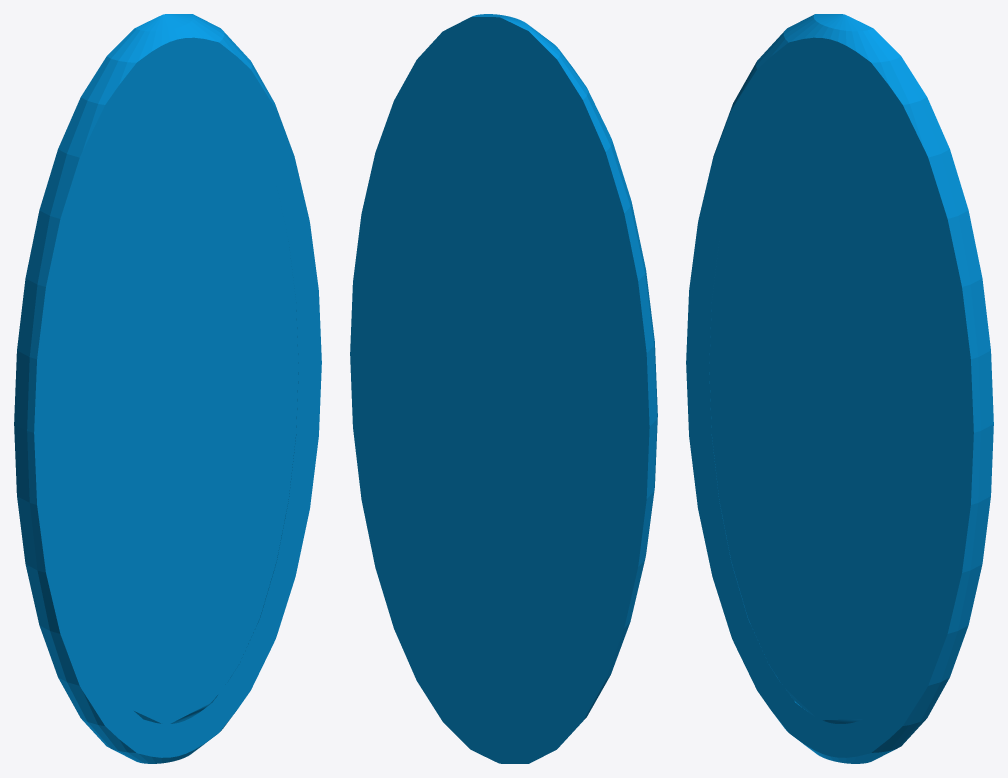
Rendered from Portal.fbx.
The picture shows the model from 3 angles, left to right: view 1: azimuth 30°, elevation 25°; view 2: azimuth 150°, elevation 25°; view 3: azimuth 330°, elevation 25°; orthographic projection.
Parts seen in each view (by area): view 1: Sphere.001; view 2: Sphere.001; view 3: Sphere.001.
Part boxes in pixels (bbox=[...]): Sphere.001: bbox=[14, 14, 321, 763]; Sphere.001: bbox=[350, 14, 657, 763]; Sphere.001: bbox=[686, 14, 993, 763].
Size of the model in its own units: 168 by 400 by 13.79.
